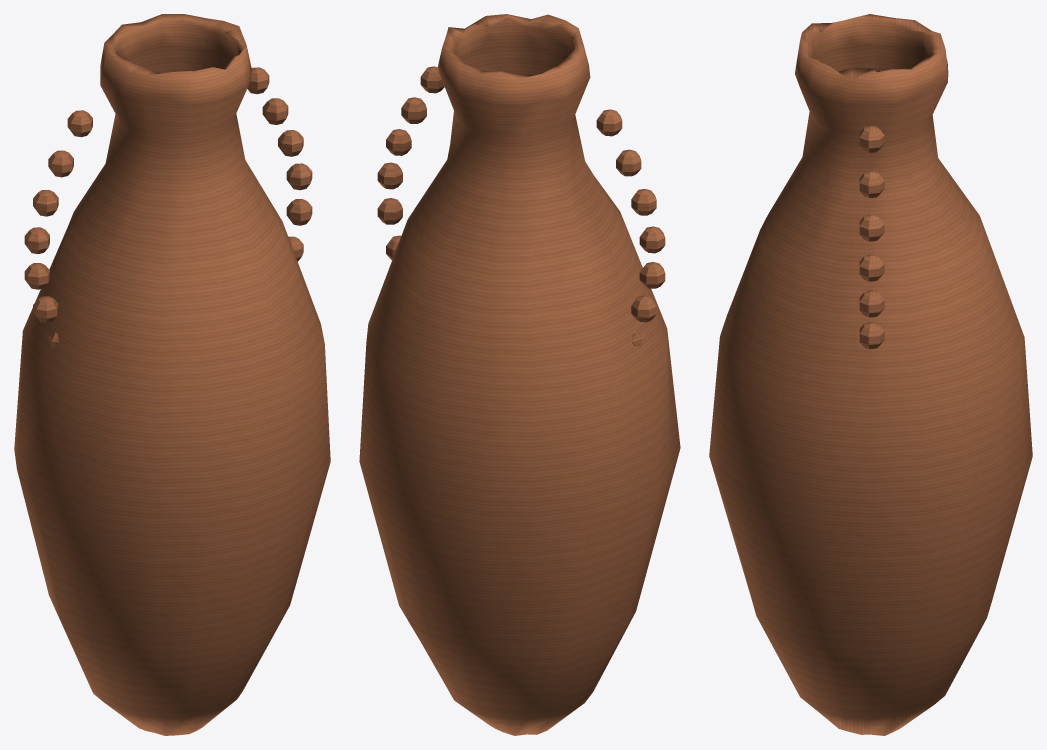
The model's file is amphora.glb.
3 views of the same model, side by side, from view 1: azimuth 30°, elevation 25°; view 2: azimuth 150°, elevation 25°; view 3: azimuth 270°, elevation 25° (orthographic).
Parts seen in each view (by area): view 1: amphora; view 2: amphora; view 3: amphora.
Boxes of the visible parts, x1,y1,x2,y2 form: amphora: [14, 14, 330, 735]; amphora: [359, 14, 680, 735]; amphora: [709, 14, 1032, 735].
Size of the model in its own units: 0.4517 by 1.03 by 0.4408.
Materials: 1 (1 with a texture image).
